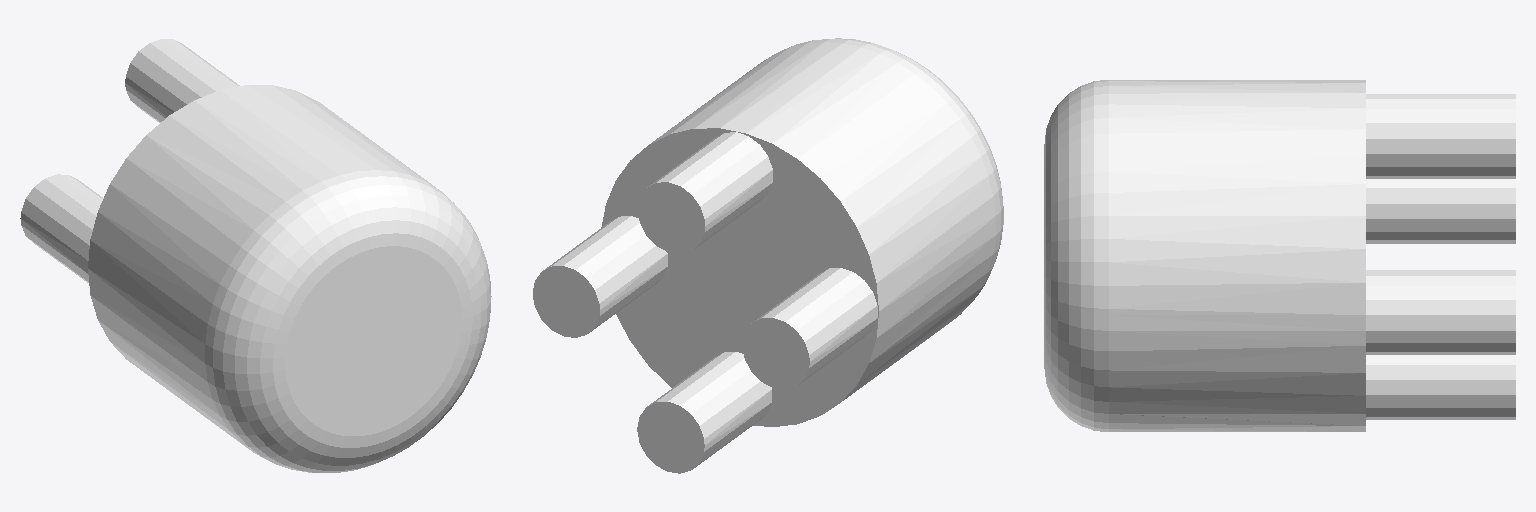
robot.urdf — xi_jian_ye:
<robot
  name="xi_jian_ye">
  <link
    name="xi_jian_ye">
    <inertial>
      <origin
        xyz="0.00017423 -0.62032 -0.000174229999999962"
        rpy="0 0 0" />
      <mass
        value="3467.2" />
      <inertia
        ixx="1530.54666453567"
        ixy="0.586182606572272"
        ixz="-0.000931962246140675"
        iyy="1180.51805324135"
        iyz="0.586182606572214"
        izz="1530.54666453567" />
    </inertial>
    <visual>
      <origin
        xyz="0 0 0"
        rpy="1.5707963267949 0 0" />
      <geometry>
        <mesh
          filename="package://xi_jian_ye/meshes/xi_jian_ye.STL" />
      </geometry>
      <material
        name="">
        <color
          rgba="1 1 1 1" />
      </material>
    </visual>
    <collision>
      <origin
        xyz="0 0 0"
        rpy="1.5707963267949 0 0" />
      <geometry>
        <mesh
          filename="package://xi_jian_ye/meshes/xi_jian_ye.STL" />
      </geometry>
    </collision>
  </link>
</robot>

--- Render facts (derived) ---
Views: 3 orthographic renders of the robot side by side, from view 1: azimuth 30°, elevation 25°; view 2: azimuth 150°, elevation 25°; view 3: azimuth 270°, elevation 25°.
Model xi_jian_ye with 1 links and 0 joints (none), rooted at xi_jian_ye, posed every joint at zero.
Visible links, largest first — view 1: xi_jian_ye; view 2: xi_jian_ye; view 3: xi_jian_ye.
Link boxes in pixels (left/top/right/bottom): xi_jian_ye: left=20, top=39, right=491, bottom=472; xi_jian_ye: left=533, top=38, right=1003, bottom=473; xi_jian_ye: left=1044, top=80, right=1515, bottom=431.
Size in the robot's own frame: 1.65 by 2.2 by 1.65 metres.
Meshes: 1 distinct files referenced, 1 mesh visuals loaded (1 binary STL).
